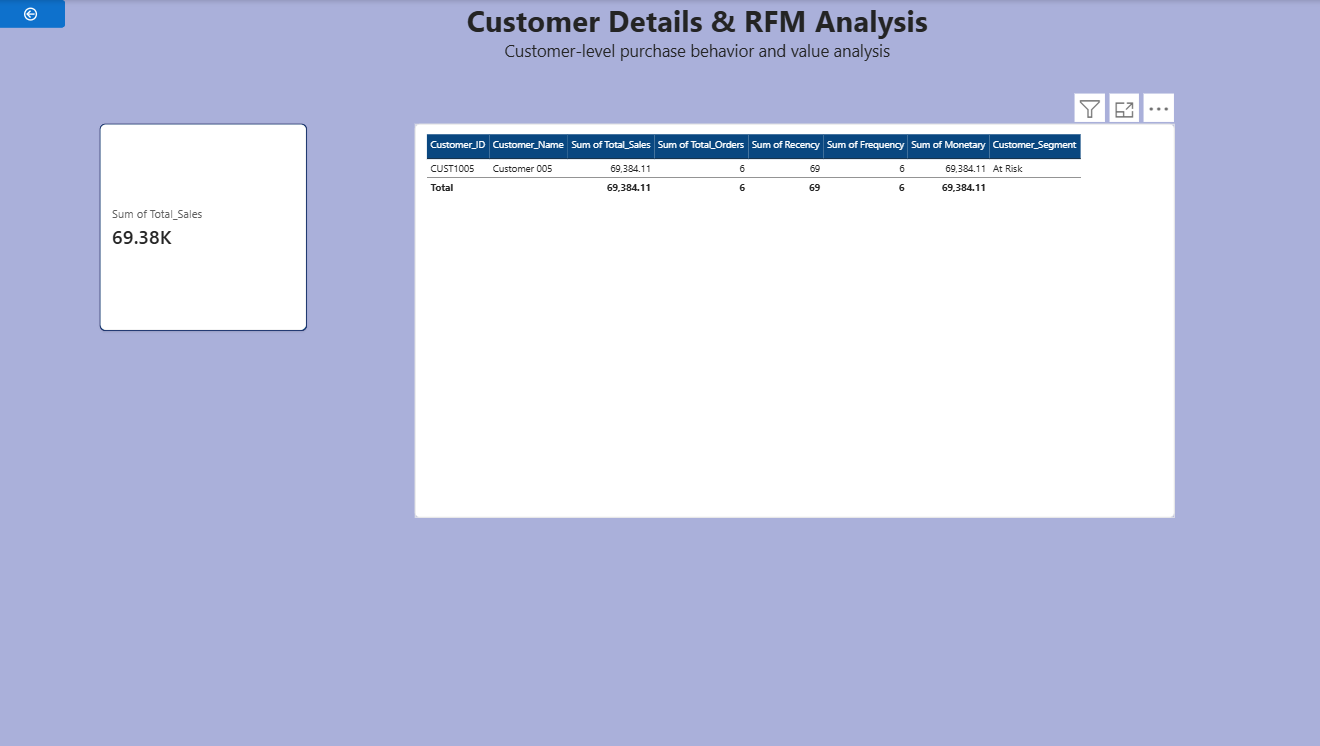

The dashboard page shown, as its layout file describes it:
{"tool":"powerbi","page":{"name":"Customer Details.","canvas":[1920,1080],"ordinal":1},"visuals":[{"type":"actionButton","box":[0,0,100,40],"z":0},{"type":"cardVisual","fields":{"Data":["Sum(Project2_Customer_RFM_Analysis.Total_Sales)"]},"box":[150,180,300,300],"z":1},{"type":"tableEx","fields":{"Values":["Project2_Customer_RFM_Analysis.Customer_ID","Project2_Customer_RFM_Analysis.Customer_Name","Sum(Project2_Customer_RFM_Analysis.Total_Sales)","Sum(Project2_Customer_RFM_Analysis.Total_Orders)","Sum(Project2_Customer_RFM_Analysis.Recency)","Sum(Project2_Customer_RFM_Analysis.Frequency)","Sum(Project2_Customer_RFM_Analysis.Monetary)","Project2_Customer_RFM_Analysis.Customer_Segment"]},"box":[606.2,179.2,1100.3,570],"z":2},{"type":"actionButton","box":[0,0,100,40],"z":3},{"type":"textbox","box":[128.5,0,1773.5,117.6],"z":4}]}

Visuals, with their boxes in screenshot pixels (x1, y1, x2, y2), scaled from the page's 1920x1080 canvas onto the 1320x746 screenshot:
actionButton: (0,0,69,28)
cardVisual - Sum(Project2_Customer_RFM_Analysis.Total_Sales): (103,124,309,332)
tableEx - Project2_Customer_RFM_Analysis.Customer_ID x Project2_Customer_RFM_Analysis.Customer_Name: (417,124,1173,518)
actionButton: (0,0,69,28)
textbox: (88,0,1308,81)
